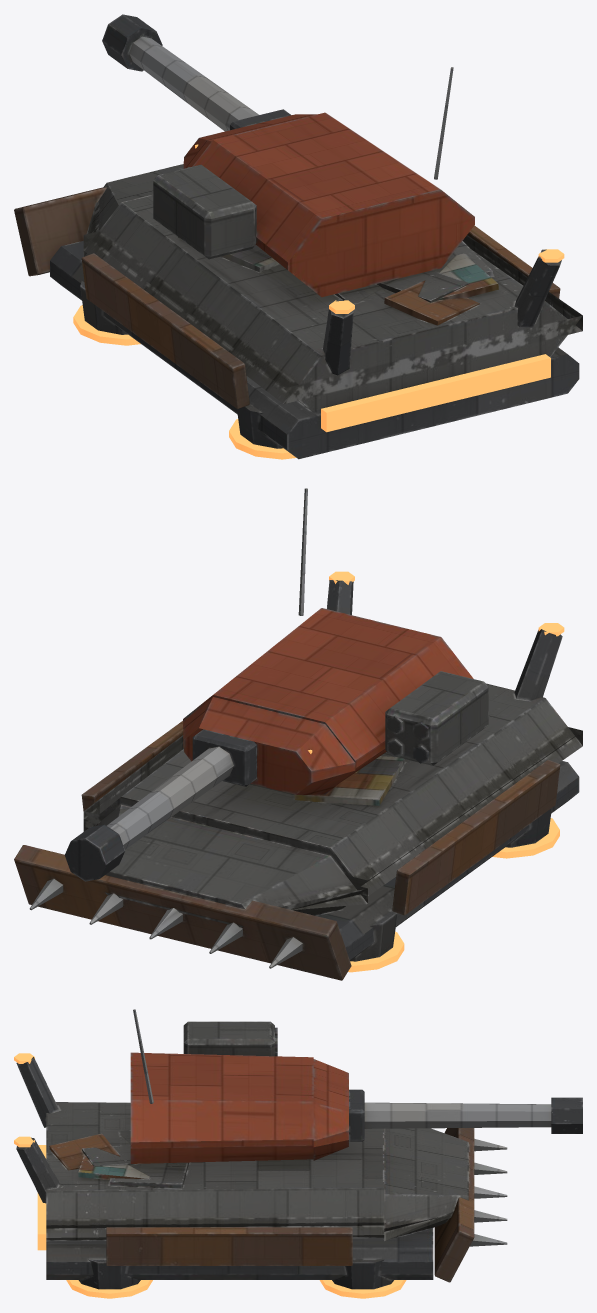
File: raider_tank.glb
3 renders of one model, top to bottom at view 1: azimuth 30°, elevation 25°; view 2: azimuth 150°, elevation 25°; view 3: azimuth 270°, elevation 25°, orthographic. The views are drawn at different scales.
Parts seen in each view (by area): view 1: raider_tank_hull, raider_tank_lights; view 2: raider_tank_hull, raider_tank_lights; view 3: raider_tank_hull, raider_tank_lights.
Boxes of the visible parts, x1,y1,x2,y2 form: raider_tank_hull: [14, 14, 582, 459]; raider_tank_lights: [73, 144, 564, 459]; raider_tank_hull: [14, 488, 582, 980]; raider_tank_lights: [308, 571, 564, 972]; raider_tank_hull: [16, 1009, 582, 1289]; raider_tank_lights: [14, 1053, 406, 1298].
Bounding box in the file's own units: 8.77 × 8.01 × 16.17.
2 materials, 1 textured.
